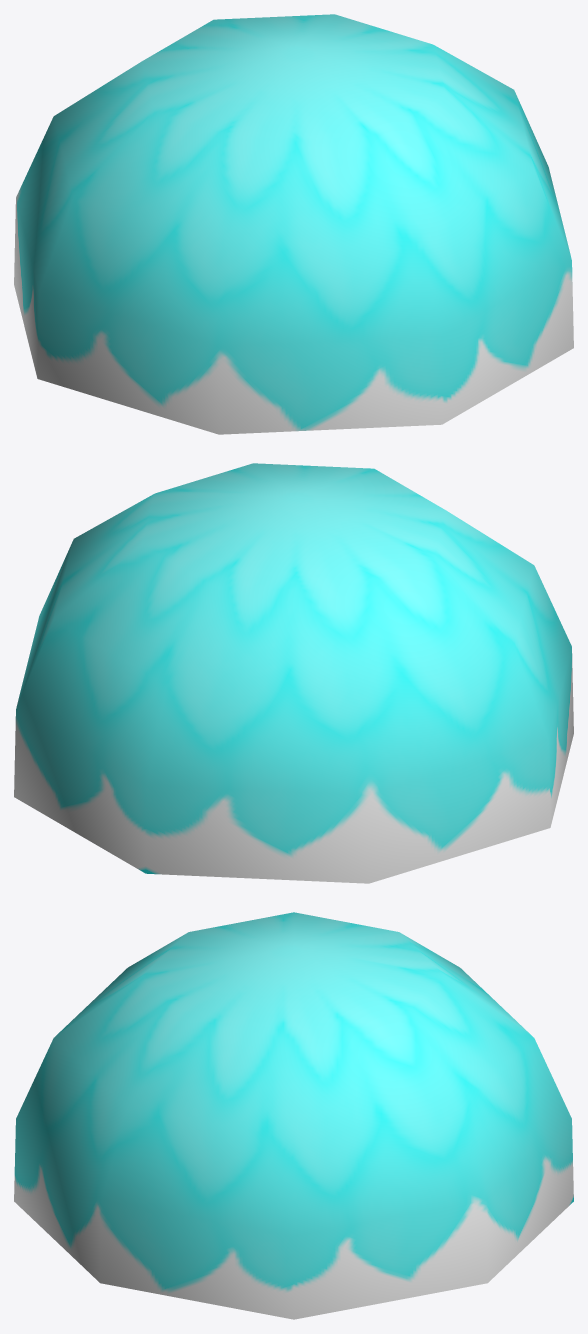
The model's file is Plant01.FBX.
The picture shows the model from 3 angles, top to bottom: view 1: azimuth 30°, elevation 25°; view 2: azimuth 150°, elevation 25°; view 3: azimuth 270°, elevation 25°; orthographic projection. The views are drawn at different scales.
Visible parts, largest first — view 1: Plant01; view 2: Plant01; view 3: Plant01.
Boxes of the visible parts, box(x1,y1,x2,y2) form: Plant01: box(14, 14, 573, 434); Plant01: box(14, 463, 573, 883); Plant01: box(14, 912, 573, 1319).
Size of the model in its own units: 290 by 145 by 290.
